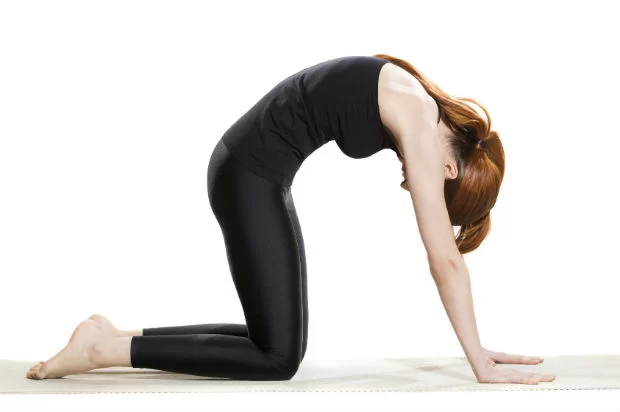Humano: (28, 45, 578, 390)
